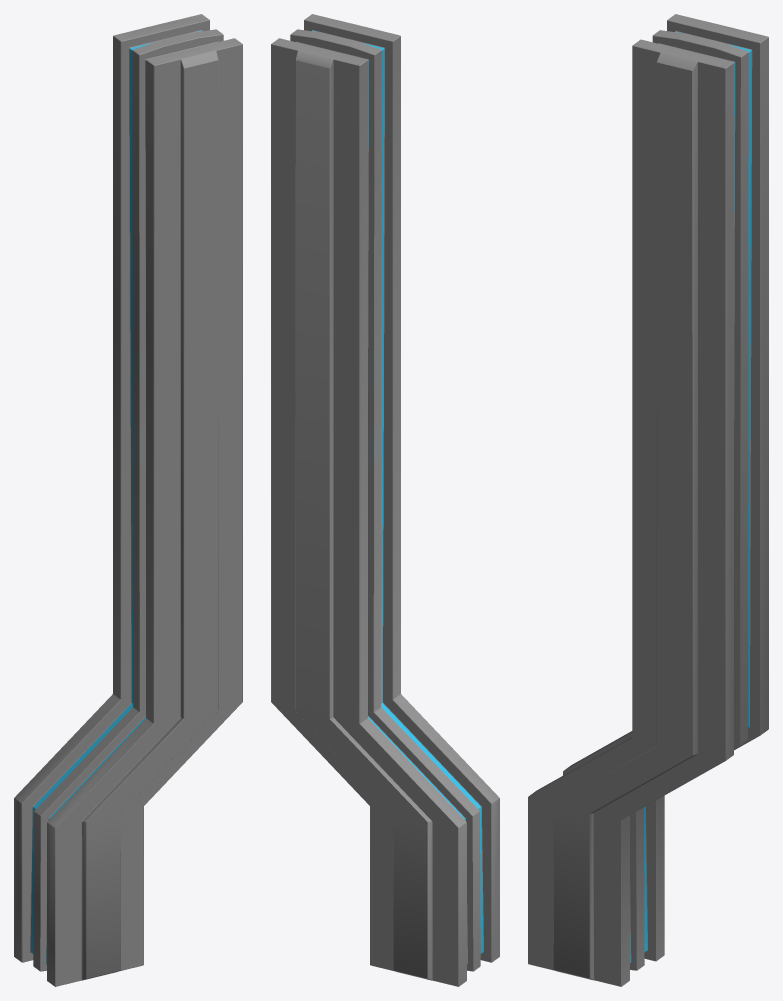
The model's file is SM_Construction.fbx.
3 renders of one model, left to right at view 1: azimuth 30°, elevation 25°; view 2: azimuth 150°, elevation 25°; view 3: azimuth 330°, elevation 25°, orthographic. The views are drawn at different scales.
Parts seen in each view (by area): view 1: SM_Construction; view 2: SM_Construction; view 3: SM_Construction.
Part boxes in pixels (bbox=[...]): SM_Construction: bbox=[14, 14, 242, 986]; SM_Construction: bbox=[271, 14, 499, 986]; SM_Construction: bbox=[528, 14, 768, 986].
Bounding box in the file's own units: 67.01 × 29.76 × 306.
1 material, 1 textured.
